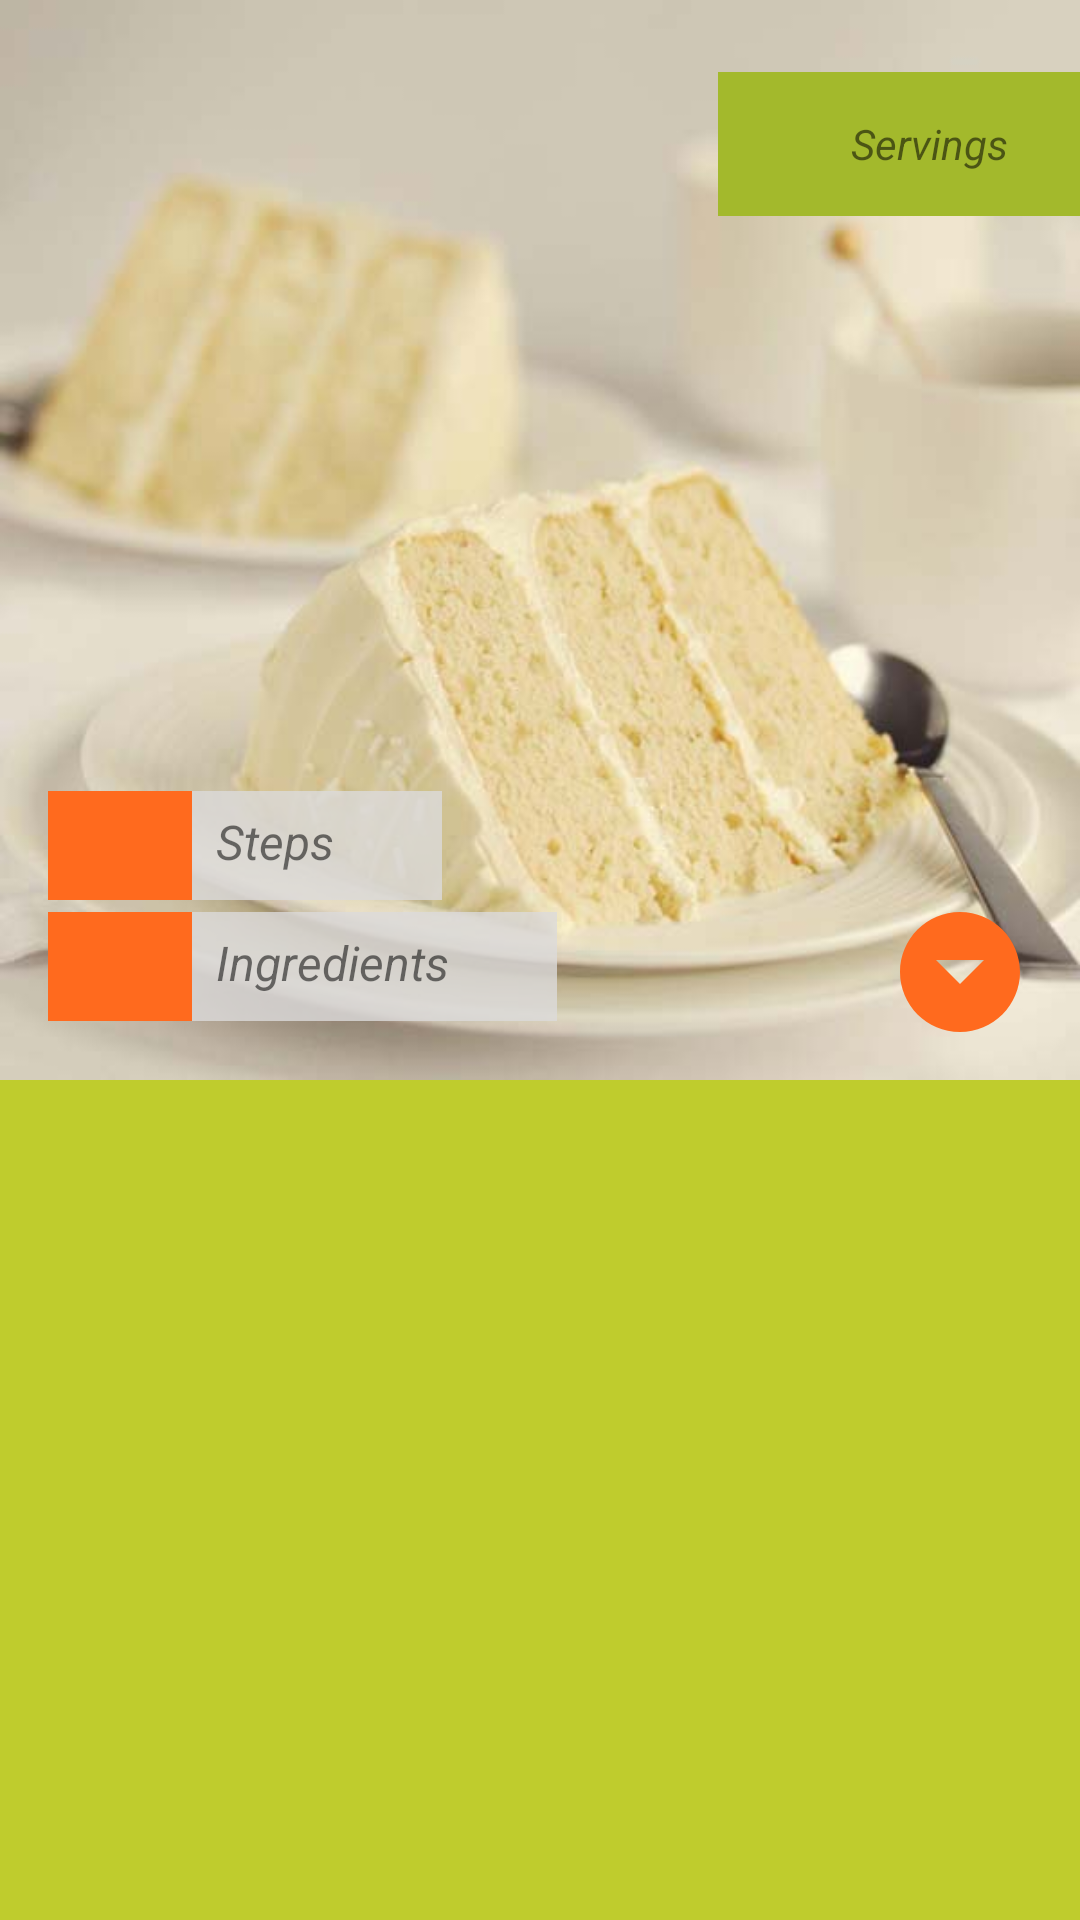

Icons on this 1080×1920 Android screen, each with the point to tap as (x=x, y=y):
arrow down icon: (x=960, y=972)
